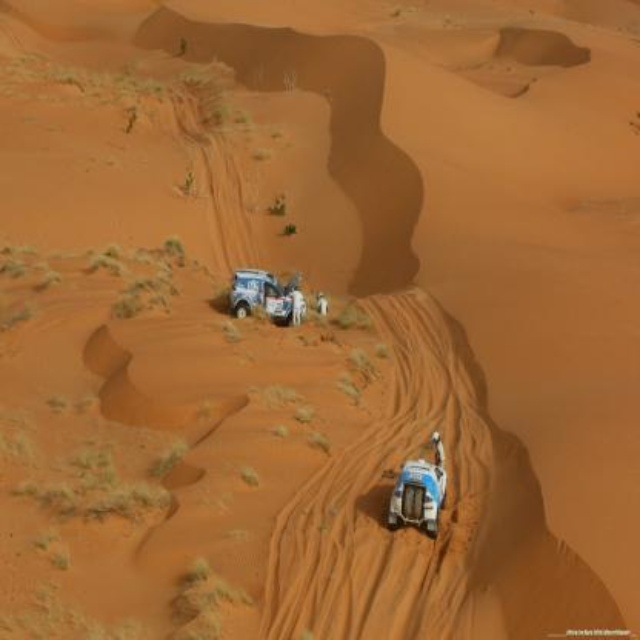Car: (387, 460, 450, 541), (230, 267, 307, 327)
